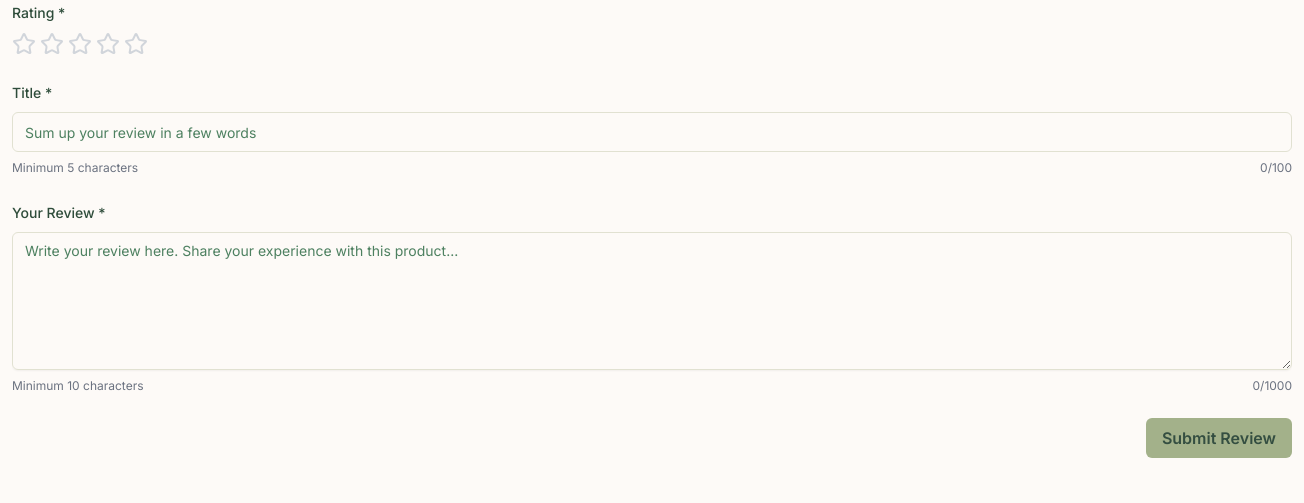
ReviewForm › Create mode › should validate comment length
Replace the text in the text box with placeholder "Write your review" with "Short" at (652, 301), box [12,232,1292,370]
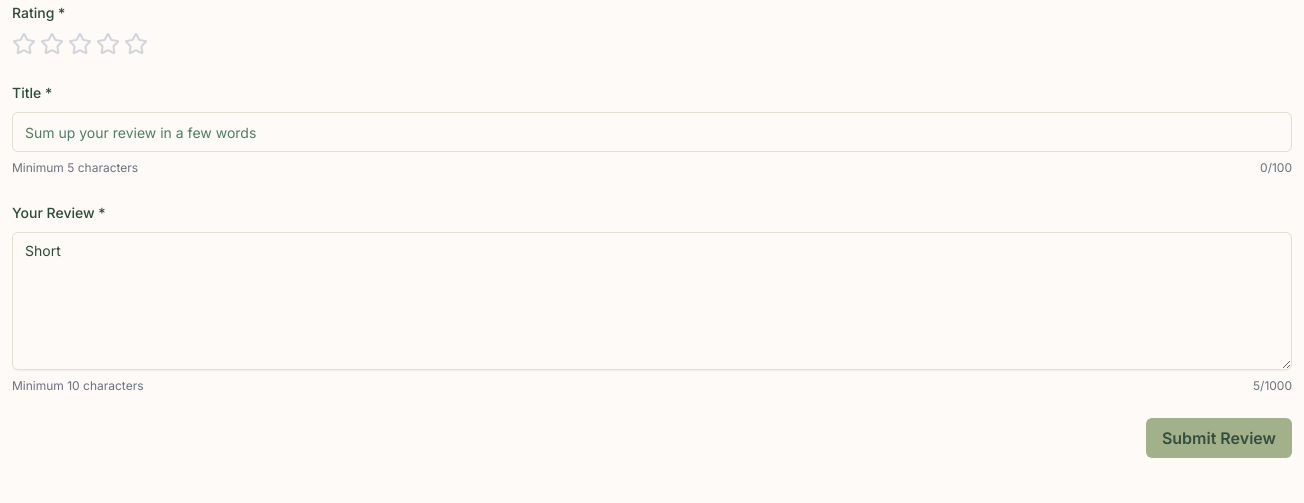
Click the button "Submit Review" at (1219, 438), box [1146,418,1292,458]
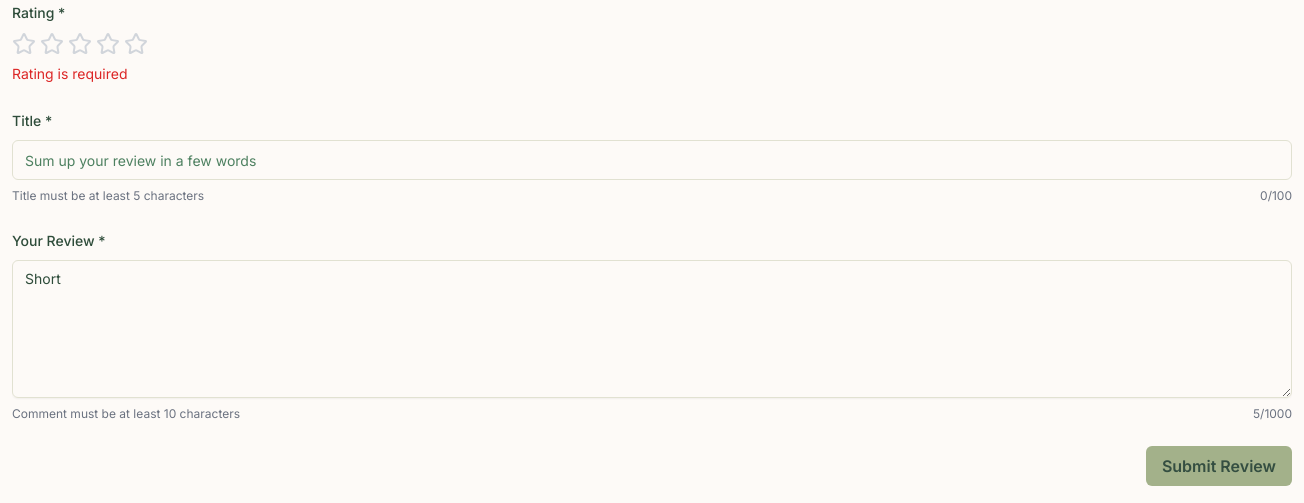
Check: the text "Comment must be at least 10 characters" is shown, box [12,406,240,422]
